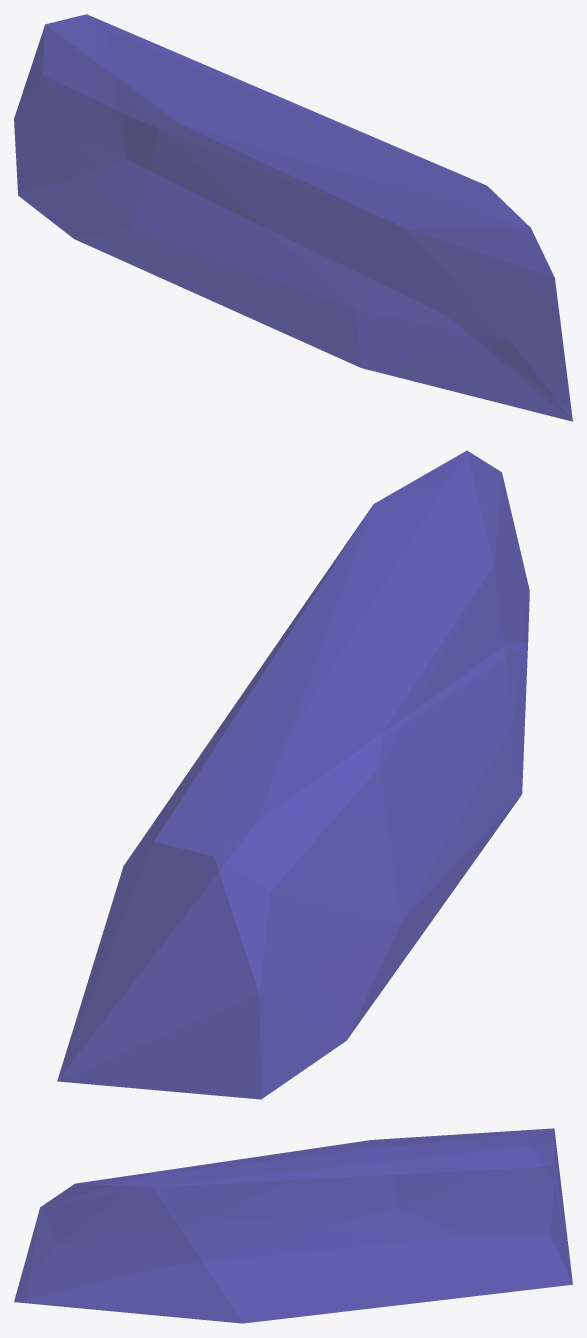
3 views of the same model, one above another, from view 1: azimuth 30°, elevation 25°; view 2: azimuth 150°, elevation 25°; view 3: azimuth 270°, elevation 25° (orthographic). The views are drawn at different scales.
Visible parts, largest first — view 1: Shape_IndexedFaceSet.013_Shape_IndexedFaceSet.3351; view 2: Shape_IndexedFaceSet.013_Shape_IndexedFaceSet.3351; view 3: Shape_IndexedFaceSet.013_Shape_IndexedFaceSet.3351.
Boxes of the visible parts, box(x1,y1,x2,y2) form: Shape_IndexedFaceSet.013_Shape_IndexedFaceSet.3351: box(14, 14, 572, 421); Shape_IndexedFaceSet.013_Shape_IndexedFaceSet.3351: box(57, 450, 529, 1099); Shape_IndexedFaceSet.013_Shape_IndexedFaceSet.3351: box(14, 1128, 572, 1323).
Bounding box in the file's own units: 0.1723 × 0.136 × 0.5314.
